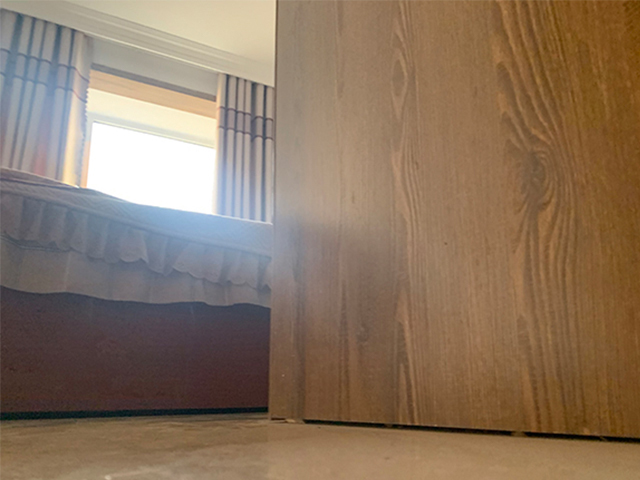bed: (1, 166, 271, 416)
curtain: (2, 5, 91, 190), (212, 69, 274, 222)
